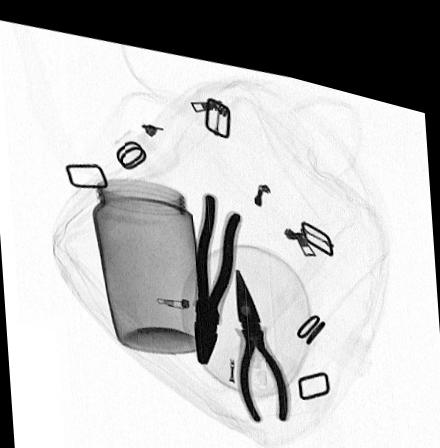Pliers: (192, 179, 243, 354), (235, 252, 290, 409)
